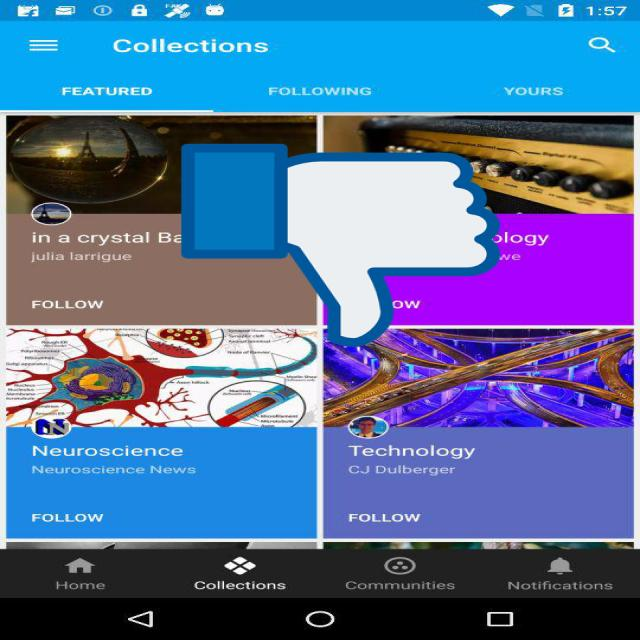obstruction: (181, 140, 500, 352)
